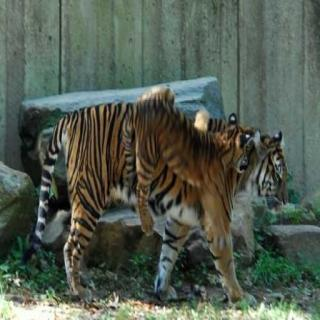Tiger: (35, 98, 292, 307), (128, 84, 256, 244)
